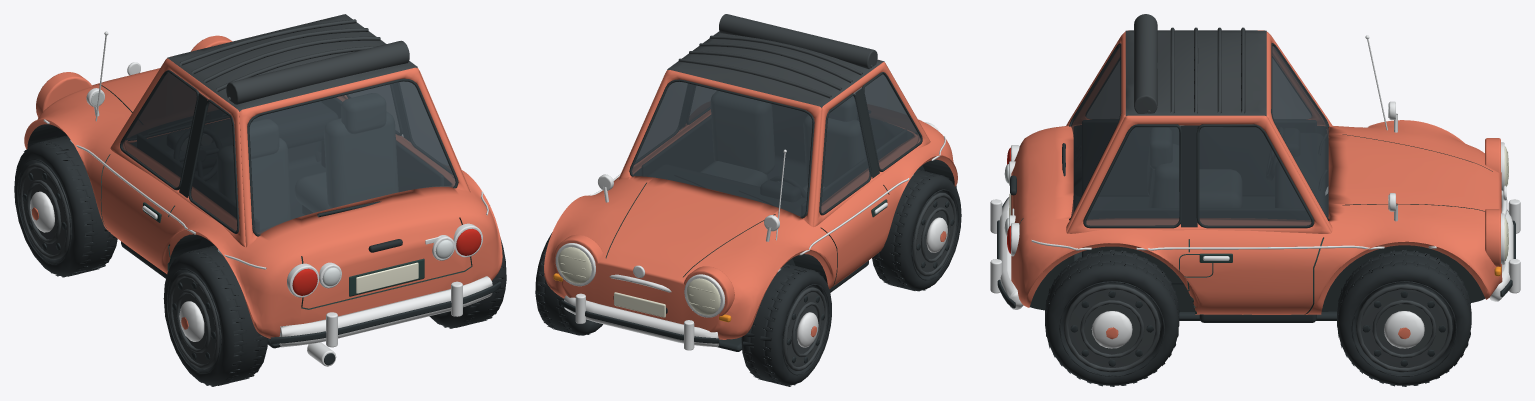
The model's file is pebble_lod1.fbx.
3 views of the same model, side by side, from view 1: azimuth 30°, elevation 25°; view 2: azimuth 150°, elevation 25°; view 3: azimuth 270°, elevation 25° (orthographic). The views are drawn at different scales.
Visible parts, largest first — view 1: Body, Wheel_RL_Mesh, Wheel_FL_Mesh, Wheel_RR_Mesh; view 2: Body, Wheel_FL_Mesh, Wheel_RL_Mesh, Wheel_FR_Mesh; view 3: Body, Wheel_FR_Mesh, Wheel_RR_Mesh.
Boxes of the visible parts, left/top/right/bottom form: Body: left=24, top=14, right=502, bottom=366; Wheel_RL_Mesh: left=163, top=245, right=268, bottom=386; Wheel_FL_Mesh: left=14, top=135, right=117, bottom=277; Wheel_RR_Mesh: left=429, top=238, right=506, bottom=328; Body: left=544, top=14, right=957, bottom=351; Wheel_FL_Mesh: left=741, top=263, right=831, bottom=386; Wheel_RL_Mesh: left=872, top=169, right=961, bottom=291; Wheel_FR_Mesh: left=535, top=232, right=602, bottom=335; Body: left=990, top=14, right=1520, bottom=322; Wheel_FR_Mesh: left=1337, top=249, right=1471, bottom=386; Wheel_RR_Mesh: left=1045, top=249, right=1179, bottom=386.
Size of the model in its own units: 203 by 176 by 316.
